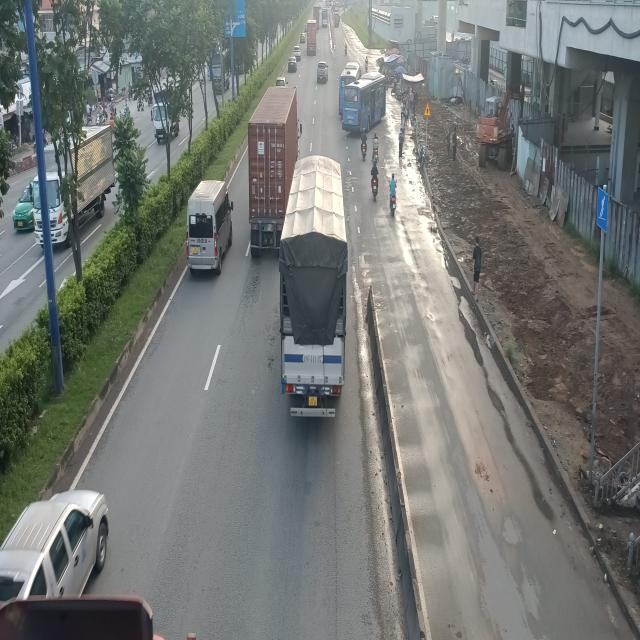coach: (343, 74, 386, 134)
container: (250, 85, 302, 254)
truck: (276, 152, 346, 415)
van: (188, 178, 236, 276)
